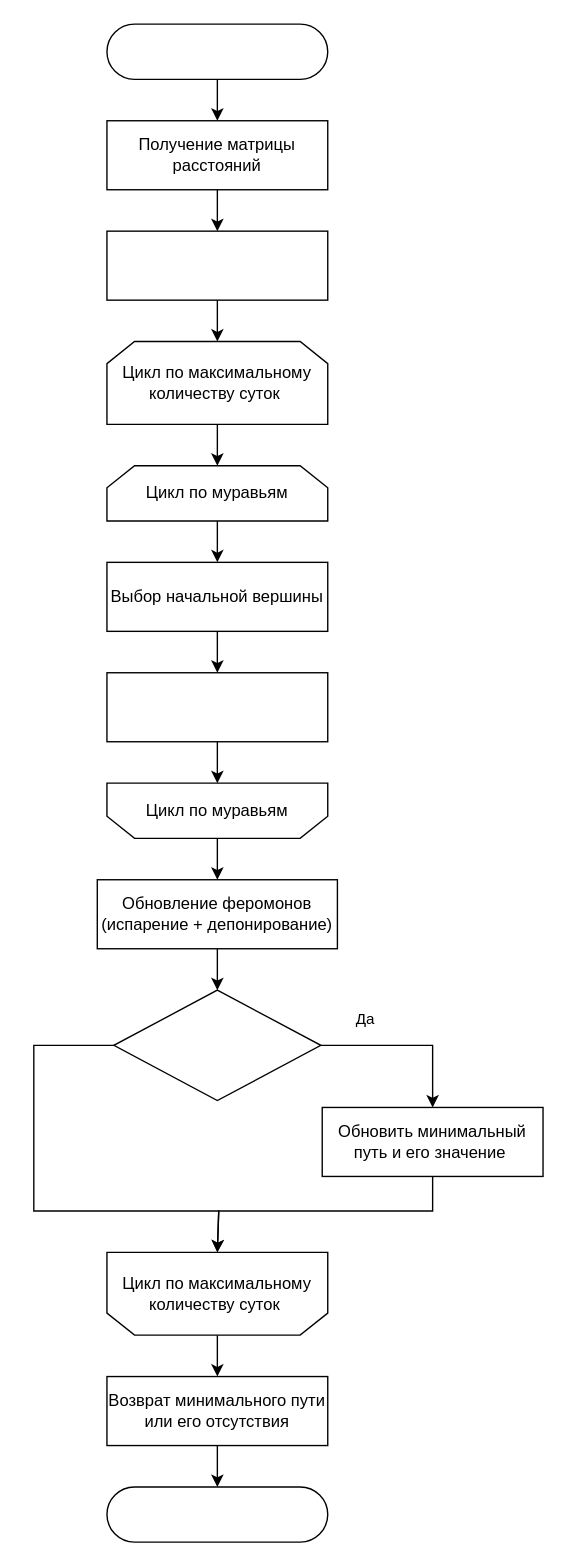
This 567x1566 diagram has some shape labels left out. The centre of each missing label's shape, as x and y in pixels:
Инициализация матрицы феромонов: the point at 217,265
Конец: the point at 217,1514
Начало: the point at 217,51
Построение маршрута: the point at 217,706
Текущий путь меньше минимального и существует?: the point at 216,1045
